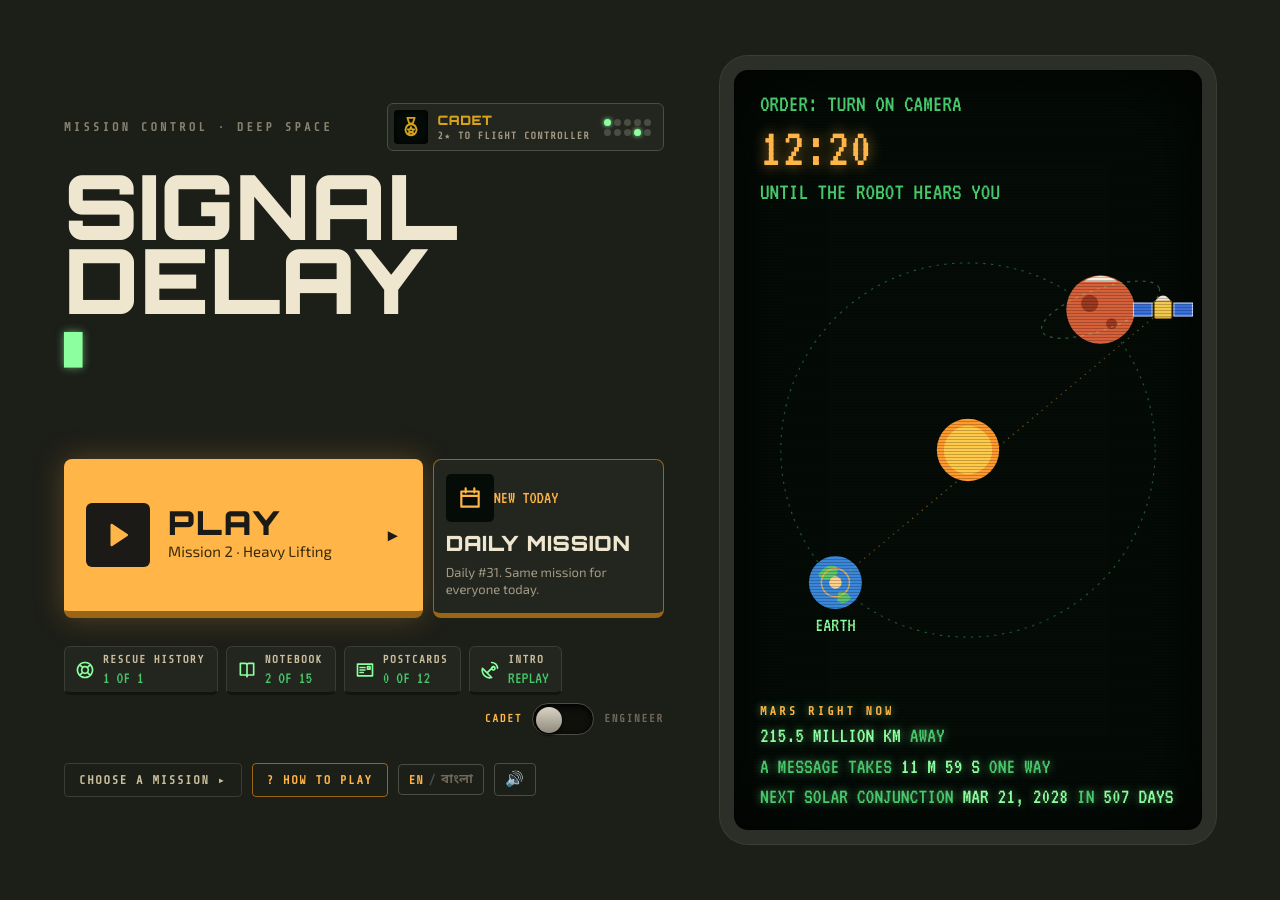
Scenario: Home › opens in Cadet mode with PLAY on the next open level and the engine’s counts on the keys
Expected: the text "NEW TODAY" is shown, [494,489,558,507]
Click the button "PLAY Mission 2 · Heavy Lifting ▸".
click(243, 538)  # box [64,459,423,618]
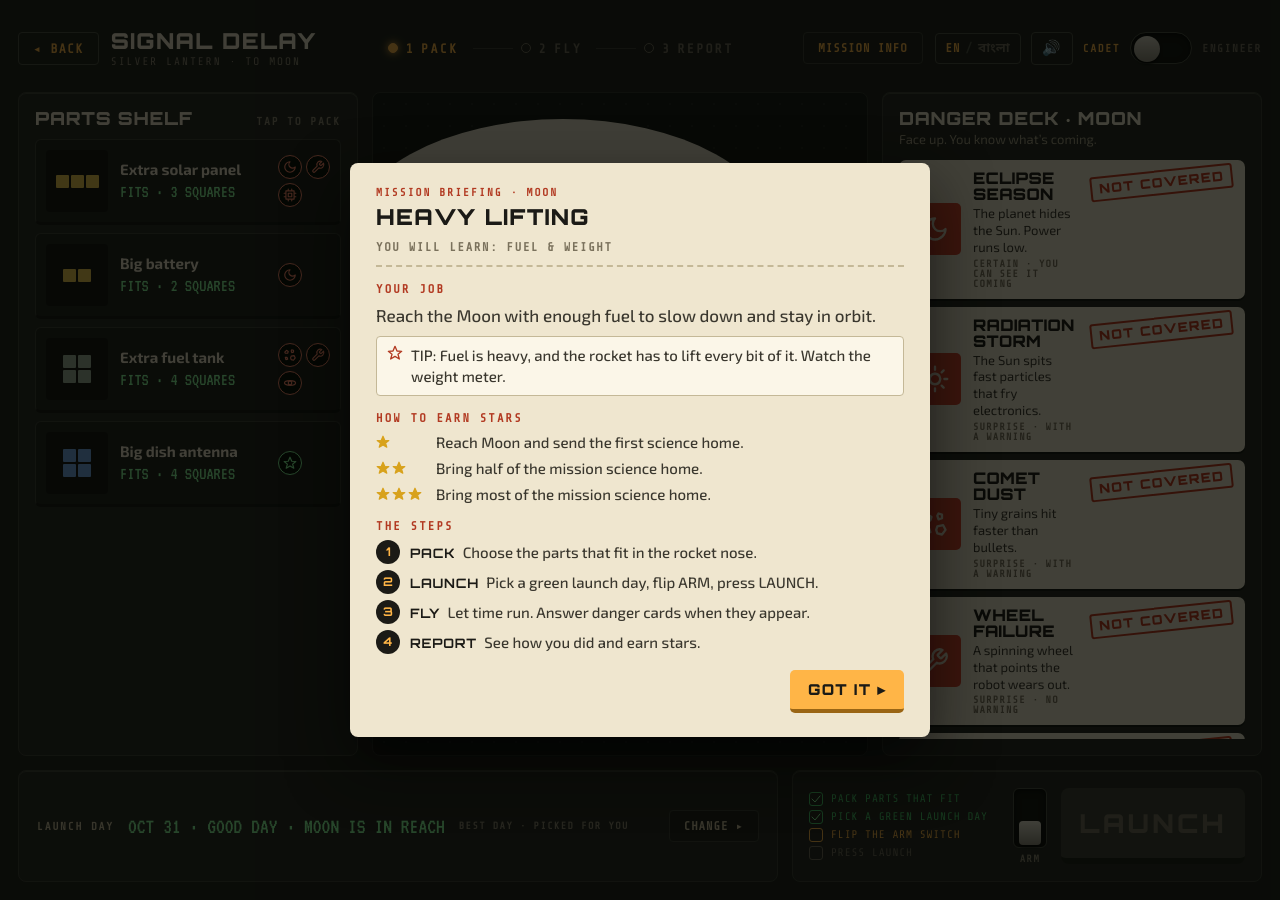
Expected: the element named "Nose:" is shown, [372,239,767,631]
